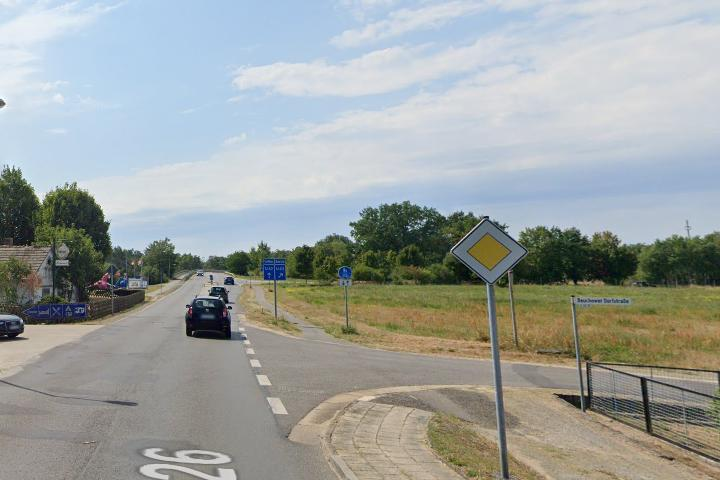traffic_sign: (449, 218, 528, 287)
vehicle: (184, 292, 236, 343)
